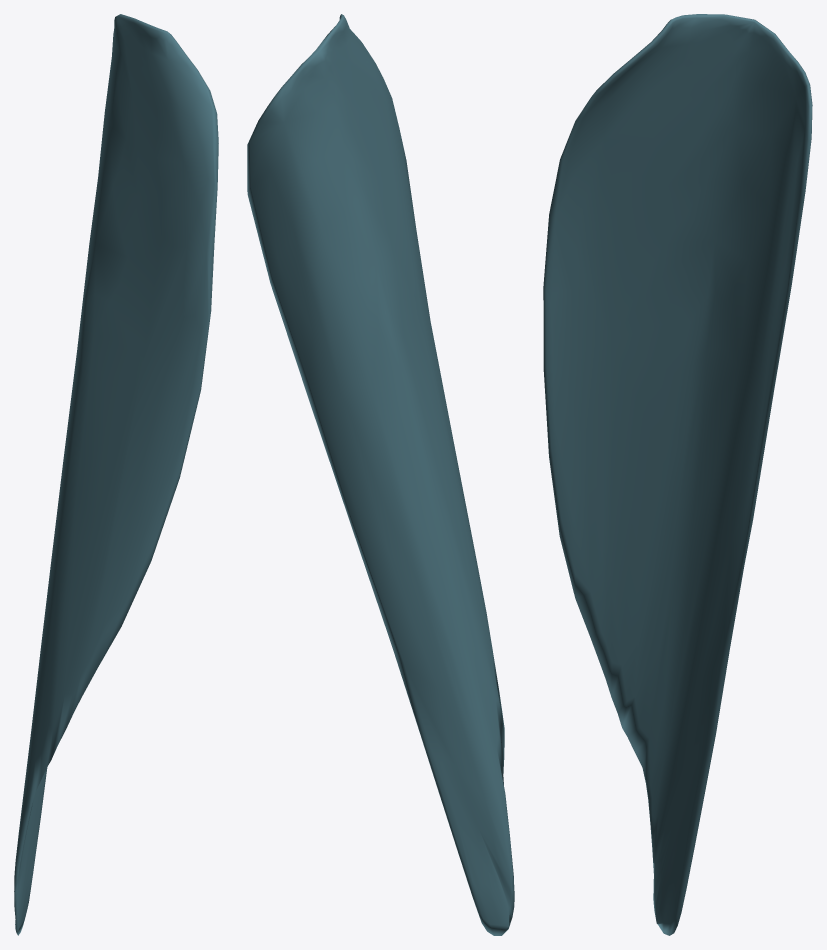
File: Supinator-Radial_insertion.r_Generated_Mesh_From_X3D.604.glb
The picture shows the model from 3 angles, left to right: view 1: azimuth 30°, elevation 25°; view 2: azimuth 150°, elevation 25°; view 3: azimuth 270°, elevation 25°; orthographic projection. The views are drawn at different scales.
Parts seen in each view (by area): view 1: Supinator-Radial_insertion.r_Generated_Mesh_From_X3D.604; view 2: Supinator-Radial_insertion.r_Generated_Mesh_From_X3D.604; view 3: Supinator-Radial_insertion.r_Generated_Mesh_From_X3D.604.
Part boxes in pixels (x1,y1,x2,y2): Supinator-Radial_insertion.r_Generated_Mesh_From_X3D.604: (14,14,218,935); Supinator-Radial_insertion.r_Generated_Mesh_From_X3D.604: (247,14,514,935); Supinator-Radial_insertion.r_Generated_Mesh_From_X3D.604: (543,14,812,935).
Bounding box in the file's own units: 0.0192 × 0.0809 × 0.0197.
